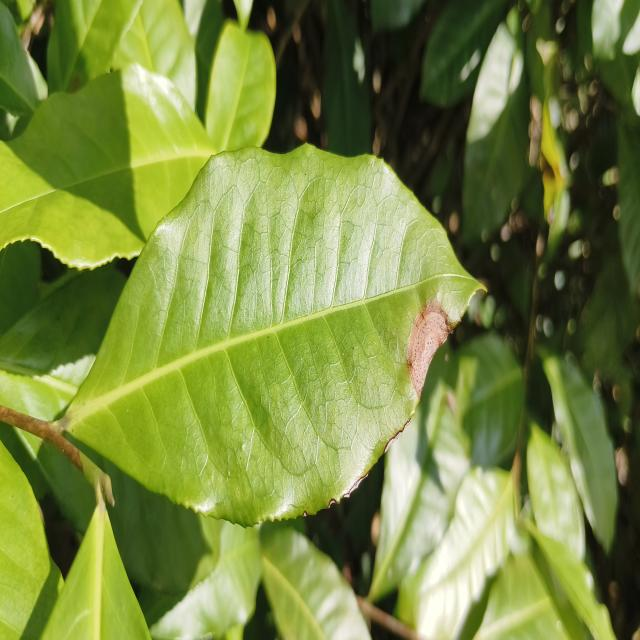Leaf: (61, 145, 480, 526), (0, 65, 213, 268), (369, 342, 470, 600), (396, 467, 515, 640), (41, 501, 151, 640), (543, 356, 617, 552), (462, 22, 527, 241), (261, 527, 370, 640), (420, 0, 507, 107), (205, 21, 276, 152), (112, 0, 196, 110), (47, 0, 142, 92), (458, 333, 523, 467), (527, 424, 585, 560), (578, 254, 640, 380), (323, 0, 371, 156)
